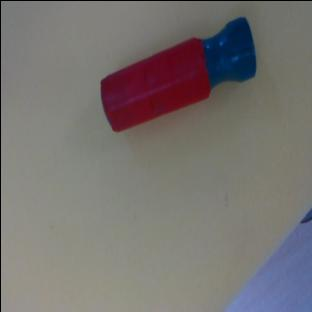part_2_good: (90, 13, 268, 139)
